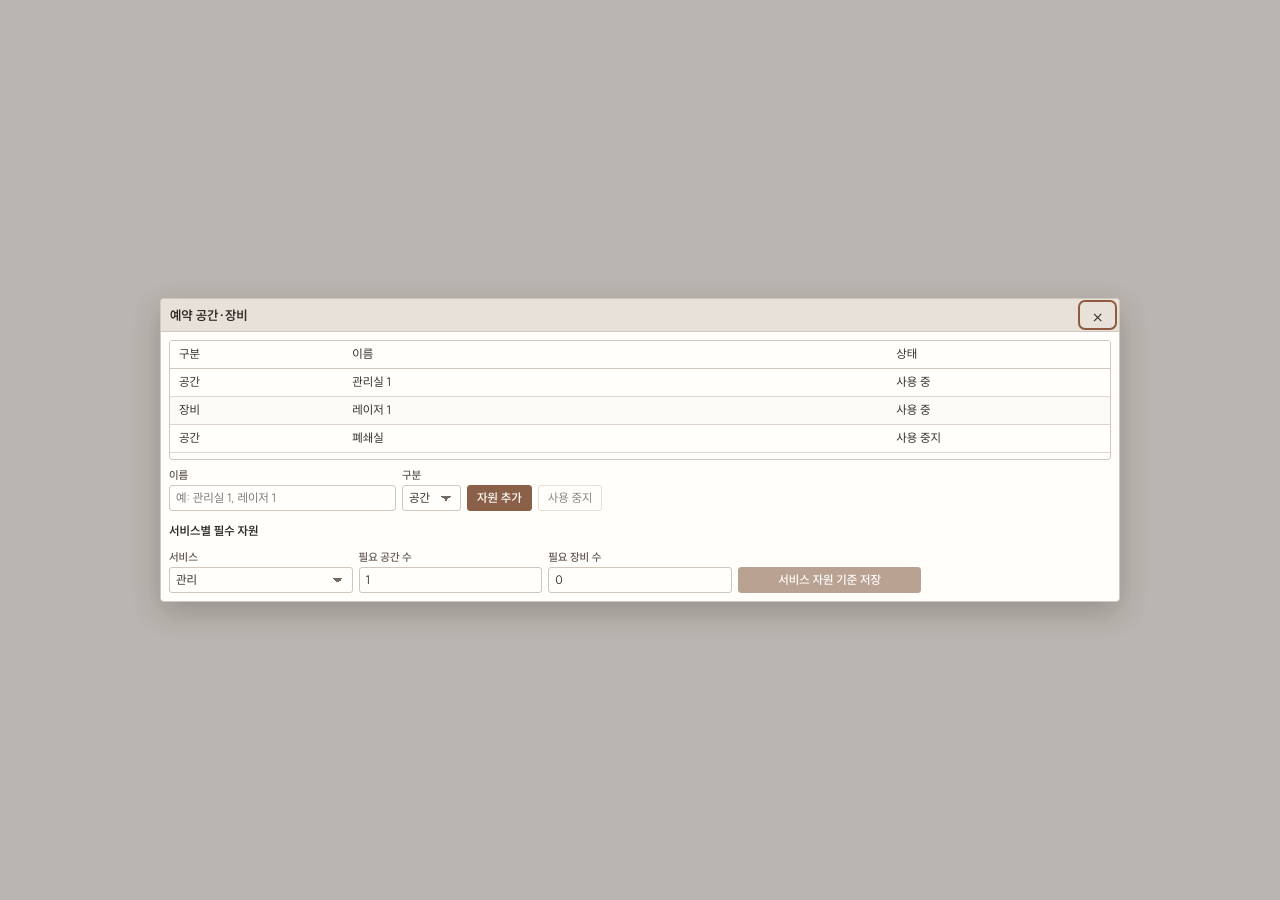
Test: ResourceManagerDialog › 서비스를 바꾸면 그 서비스의 기준을 읽는다
Expected: the number field labelled "필요 공간 수" holds "1", [359, 567, 542, 593]
Select "레이저" in the dropdown labelled "서비스": (261, 580) [169, 567, 353, 593]
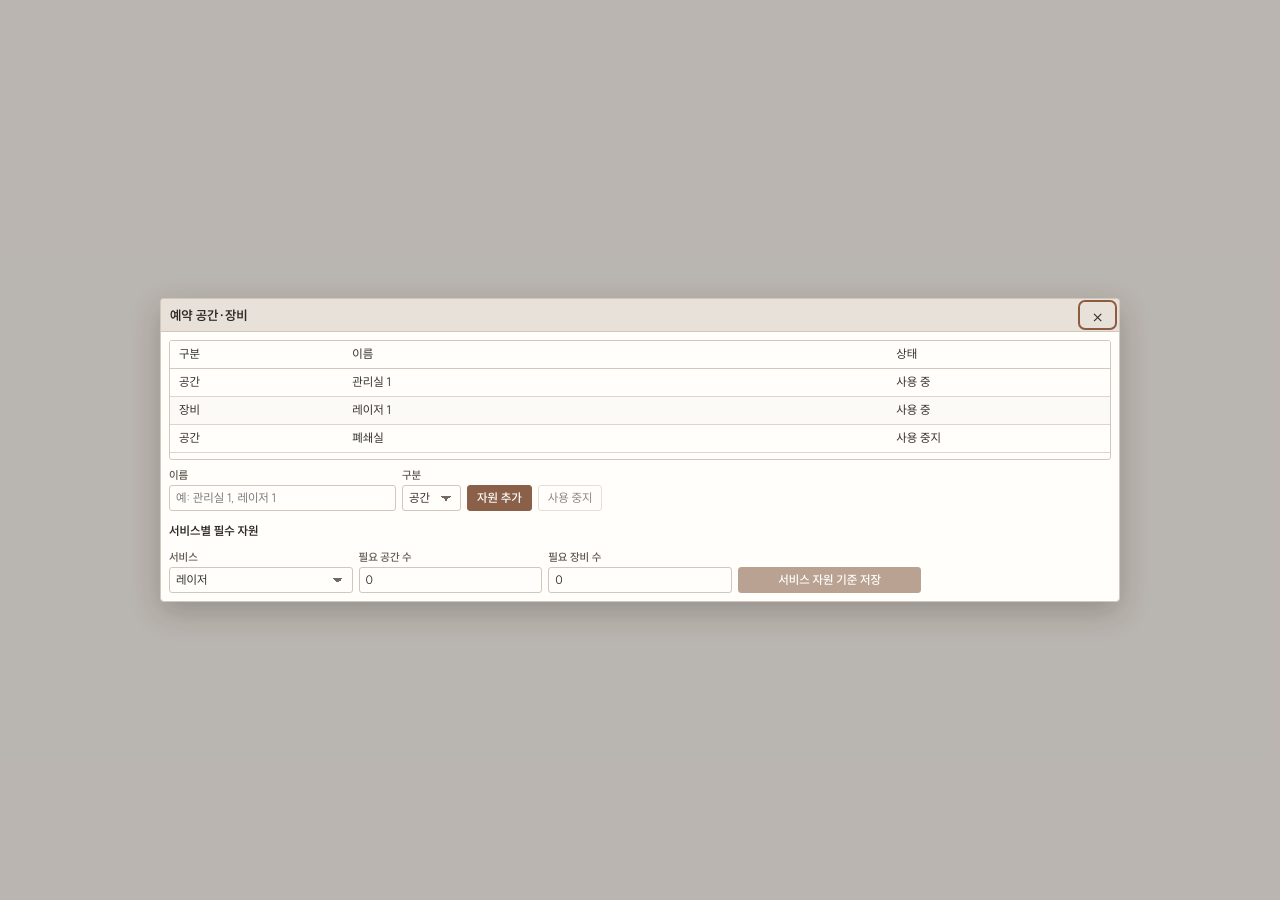
Now the number field labelled "필요 공간 수" holds "0", box [359, 567, 542, 593]
